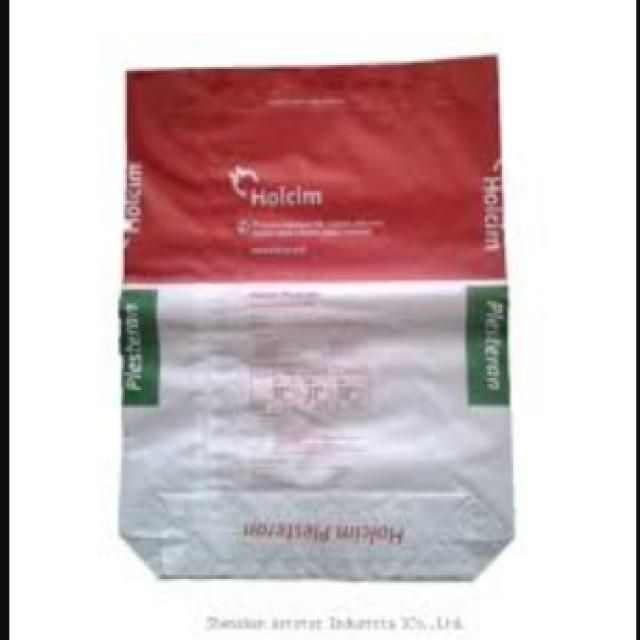KantongSemen: (116, 51, 515, 581)
